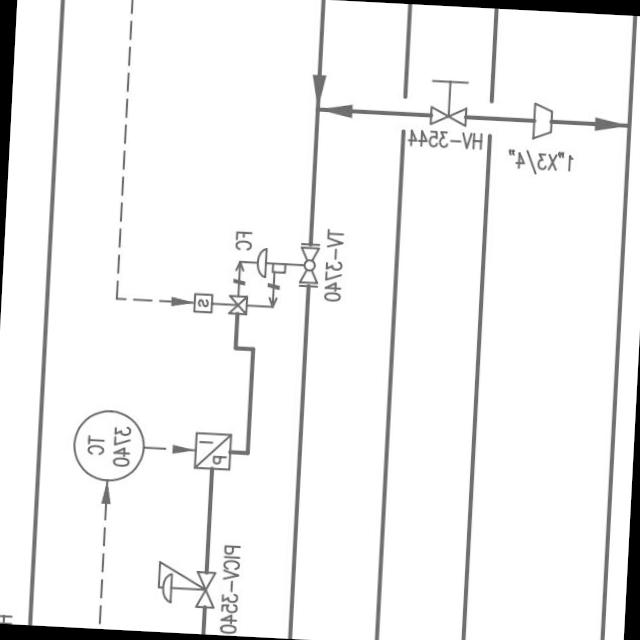CBV: (190, 228, 326, 324)
EPA: (189, 425, 236, 479)
HVWT: (424, 73, 474, 130)
PCV: (146, 552, 215, 612)
SP: (529, 100, 555, 141)
